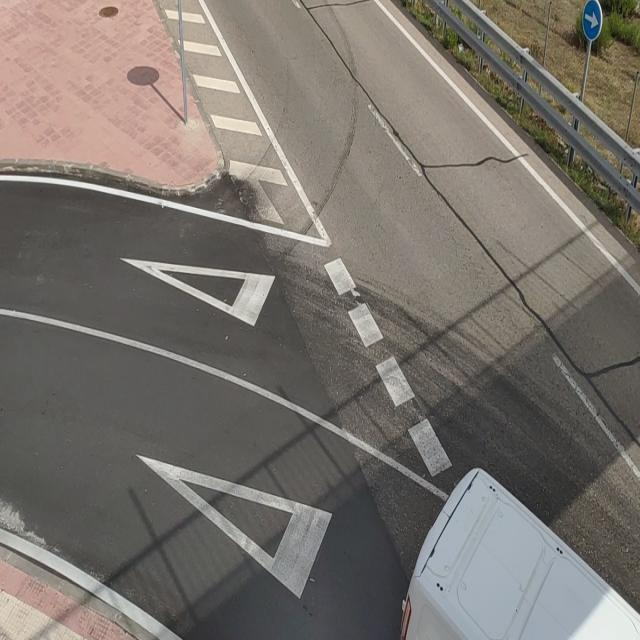Car: (384, 464, 640, 640)
